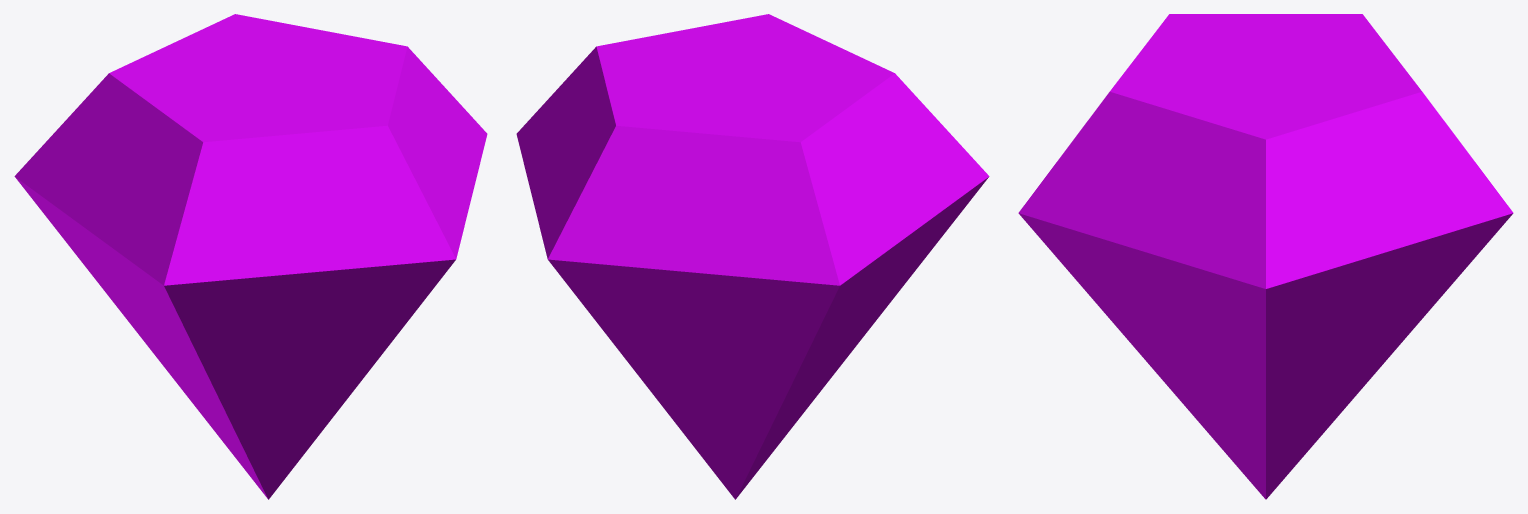
Rendered from Gem_01.fbx.
3 views of the same model, side by side, from view 1: azimuth 30°, elevation 25°; view 2: azimuth 150°, elevation 25°; view 3: azimuth 270°, elevation 25° (orthographic). The views are drawn at different scales.
Visible parts, largest first — view 1: Gem_01; view 2: Gem_01; view 3: Gem_01.
Part boxes in pixels (x1=…): Gem_01: x1=14, y1=14, x2=487, y2=499; Gem_01: x1=516, y1=14, x2=989, y2=499; Gem_01: x1=1018, y1=14, x2=1513, y2=499.
Size of the model in its own units: 7.13 by 7.17 by 7.49.
